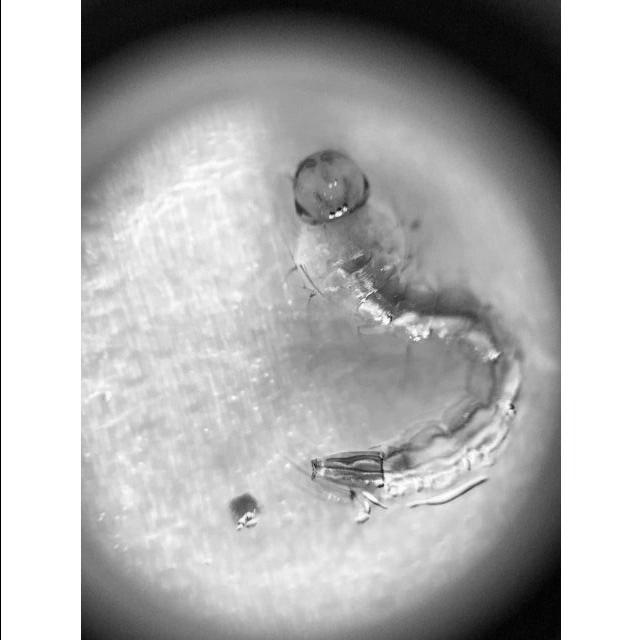larvas: (288, 152, 522, 515)
